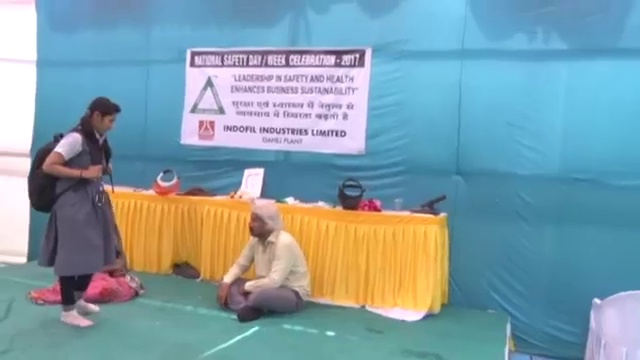helmet_off: (86, 96, 121, 136), (246, 204, 274, 239)
person: (27, 94, 121, 331), (215, 201, 313, 323)
